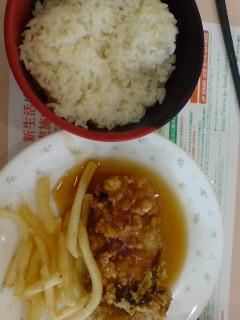plate: (4, 0, 203, 141)
